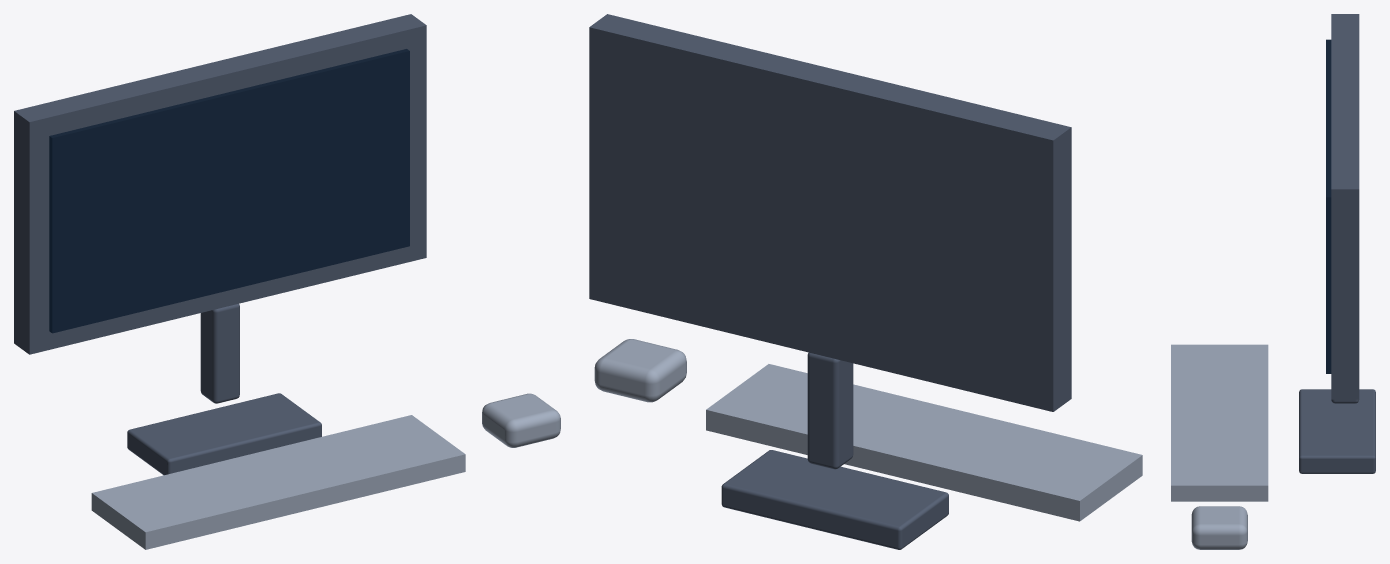
Rendered from desktop.glb.
3 views of the same model, side by side, from view 1: azimuth 30°, elevation 25°; view 2: azimuth 150°, elevation 25°; view 3: azimuth 270°, elevation 25° (orthographic). The views are drawn at different scales.
Visible parts, largest first — view 1: desktop; view 2: desktop; view 3: desktop.
Boxes of the visible parts, x1,y1,x2,y2 form: desktop: [14, 14, 560, 549]; desktop: [589, 14, 1142, 549]; desktop: [1171, 14, 1375, 549].
Bounding box in the file's own units: 0.5976 × 0.4675 × 0.256.
